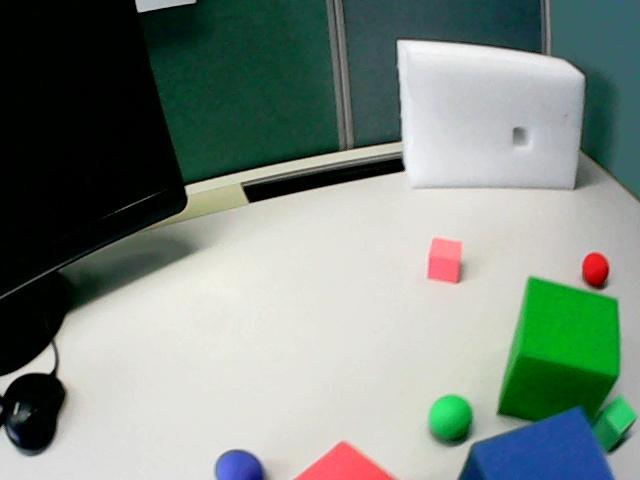blue_block: (459, 407, 613, 479), (460, 454, 486, 479)
red_block: (295, 442, 393, 479), (427, 237, 461, 282)
